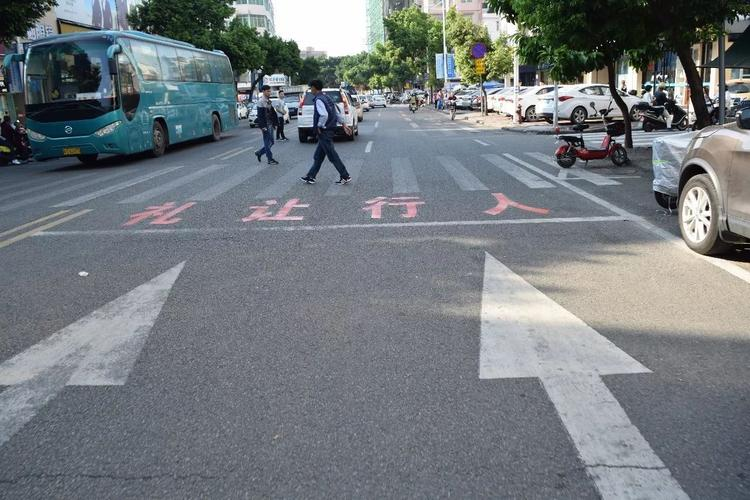bicycle: (553, 115, 631, 169)
bus: (13, 30, 241, 166)
car: (650, 105, 750, 258), (512, 84, 643, 125), (294, 88, 362, 138), (333, 86, 362, 140), (488, 86, 533, 114), (464, 83, 505, 111), (452, 87, 482, 110), (284, 94, 304, 117), (352, 93, 368, 120), (355, 95, 373, 113), (367, 95, 387, 108), (388, 93, 409, 103)
person: (298, 82, 354, 185), (250, 86, 290, 165), (652, 86, 670, 119), (639, 86, 654, 105), (435, 92, 446, 111)
sign: (469, 41, 488, 58)
